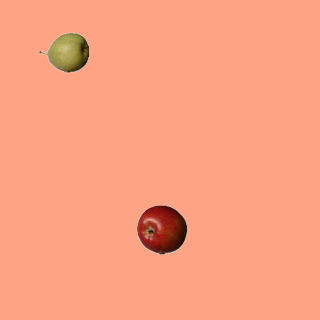Apple Braeburn: (136, 204, 186, 254)
Pear: (38, 27, 88, 77)
